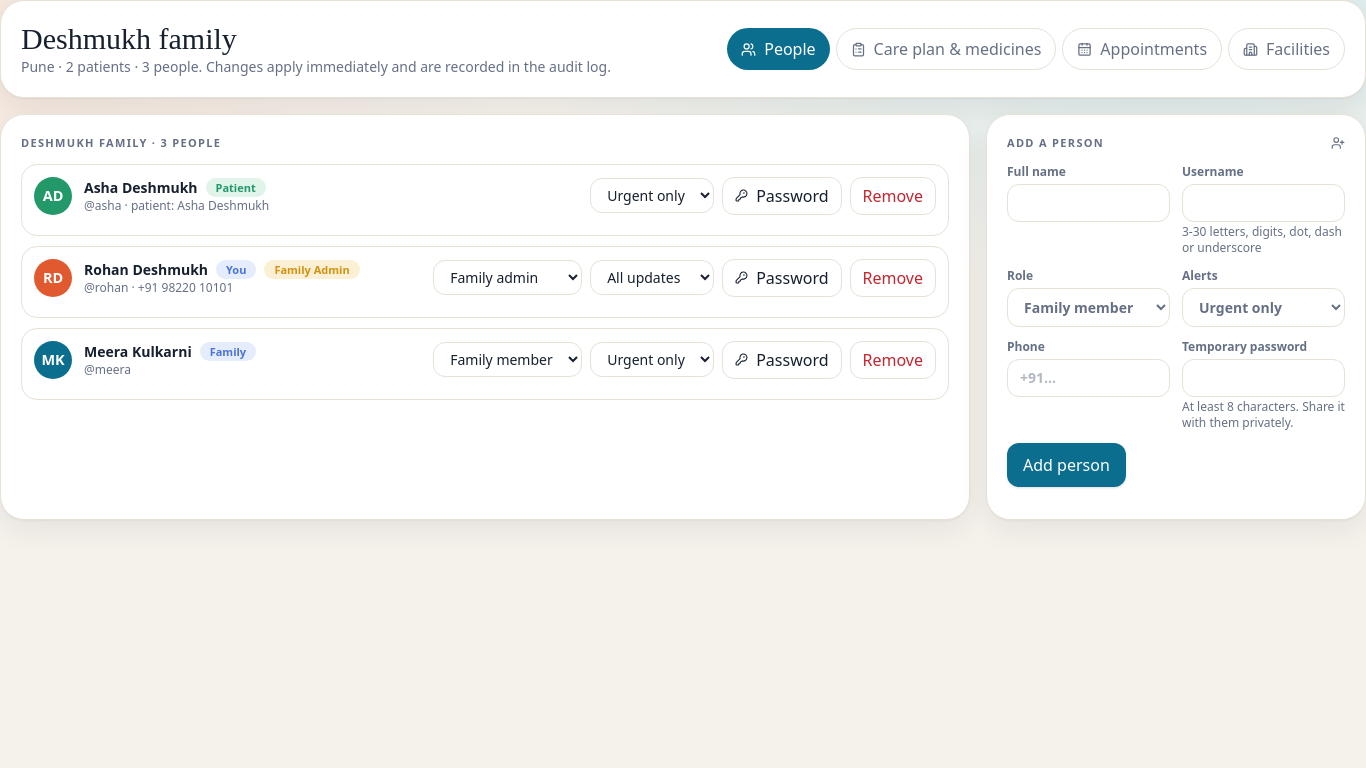
Test case: family admin console › shows the server's refusal (username taken) without losing what was typed
Type "Someone" into the field labelled "Full name".
click(1088, 202); type("Someone")  # box [1007,184,1170,222]
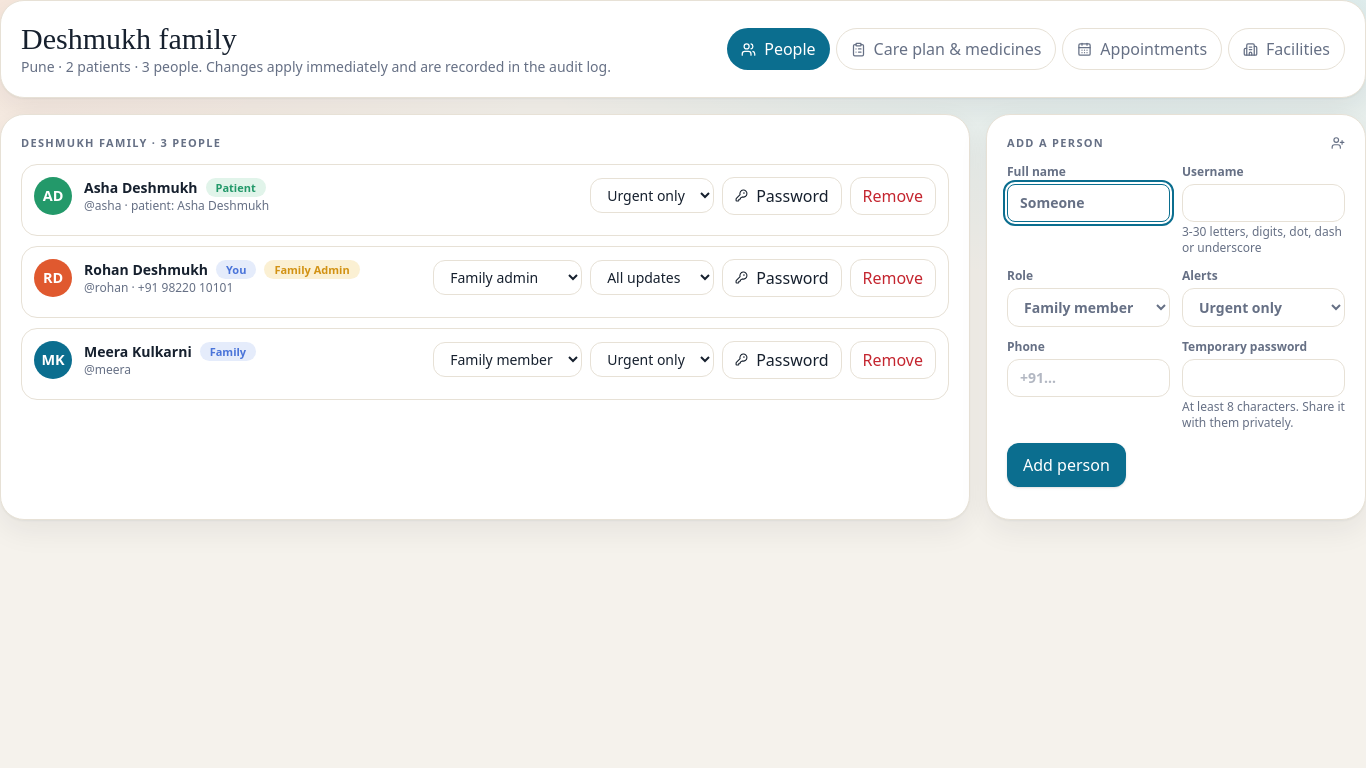
Type "asha" into the field labelled "Username 3-30 letters, digits, dot, dash or underscore".
click(1264, 202); type("asha")  # box [1182,184,1345,222]
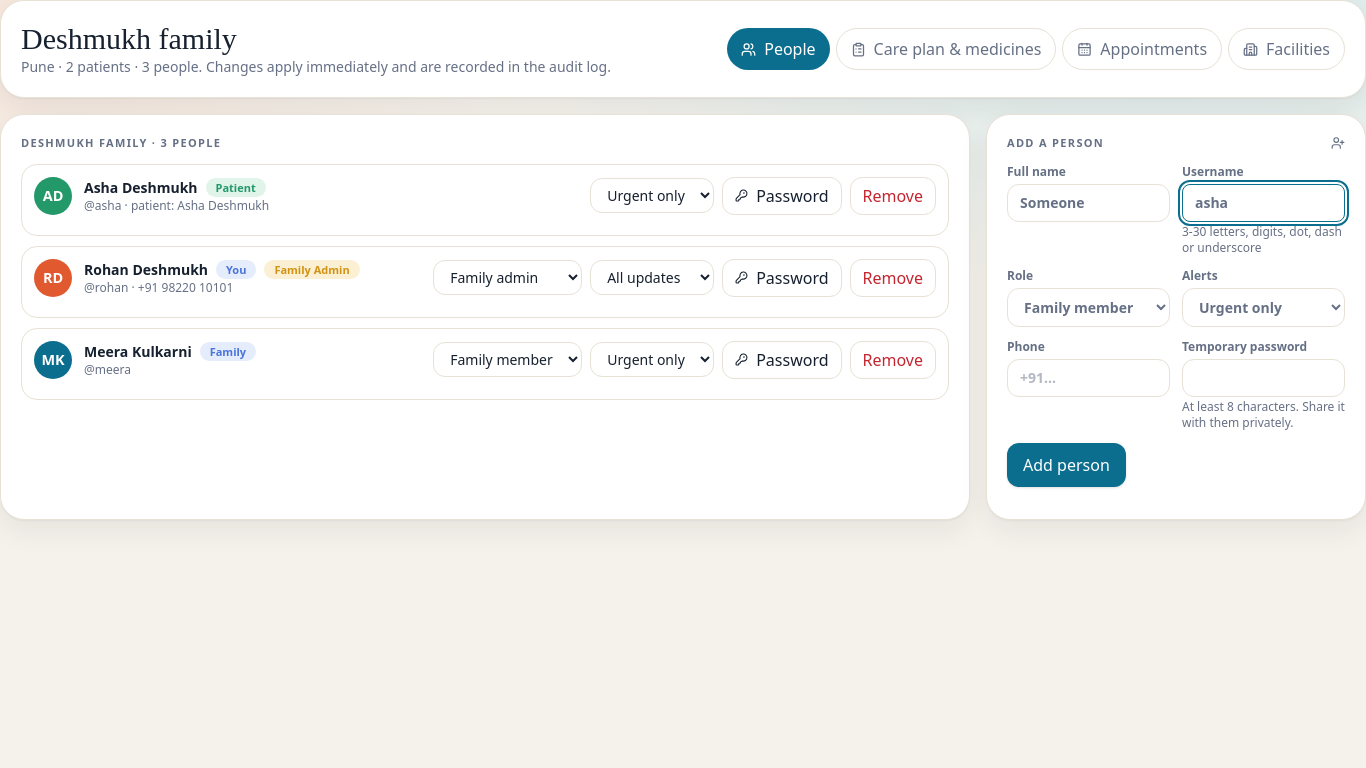
Type "Passw0rd!x" into the field labelled "Temporary password".
click(1264, 378); type("Passw0rd!x")  # box [1182,358,1345,396]
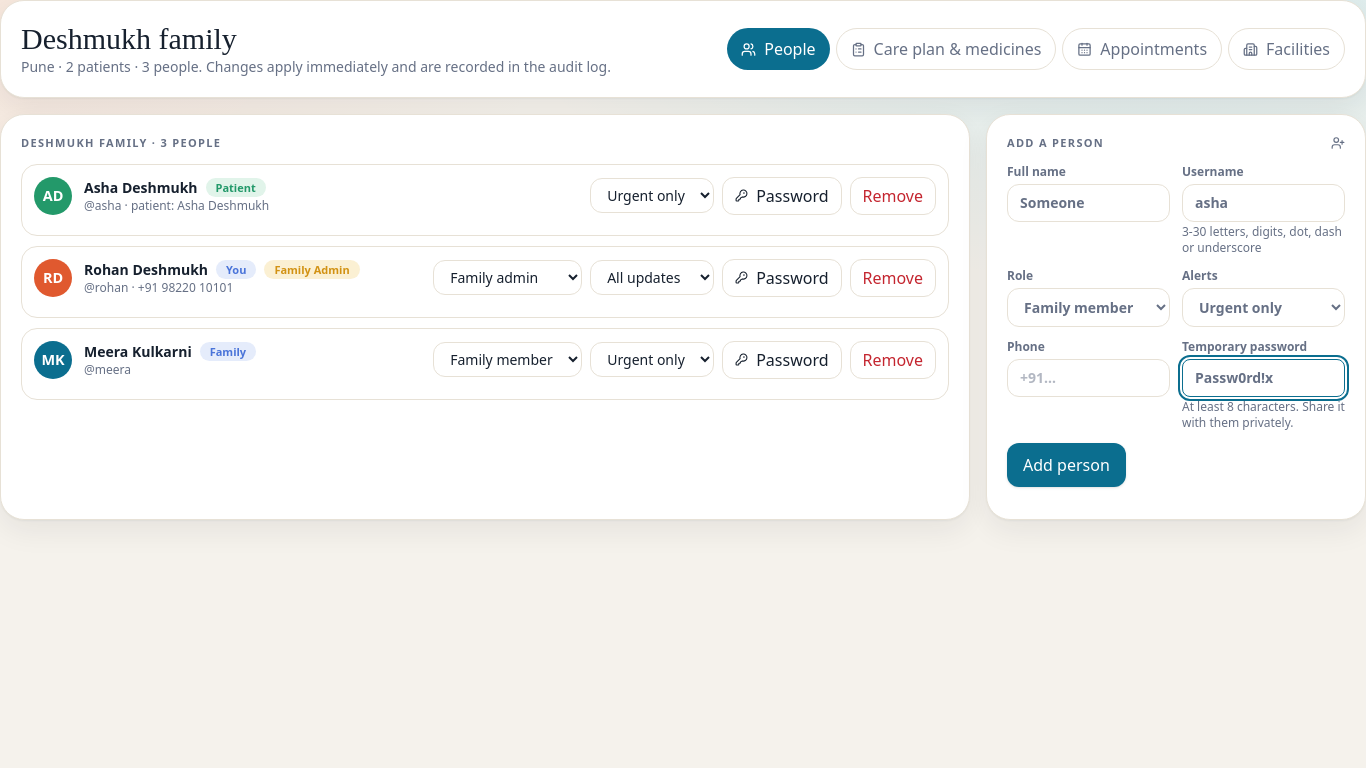
Click the button "Add person".
click(1066, 464)  # box [1007,442,1126,486]
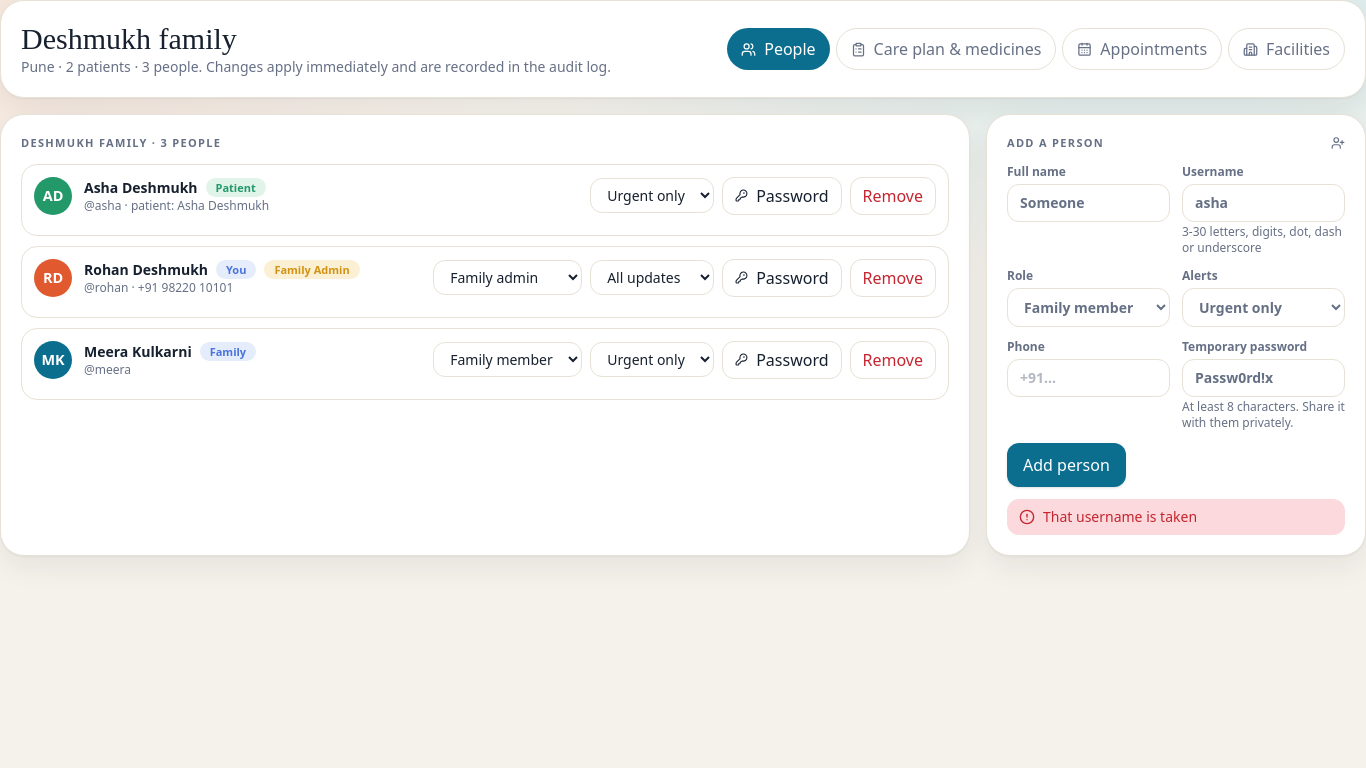
Check: the message reads "That username is taken", box [1043,506,1197,526]
